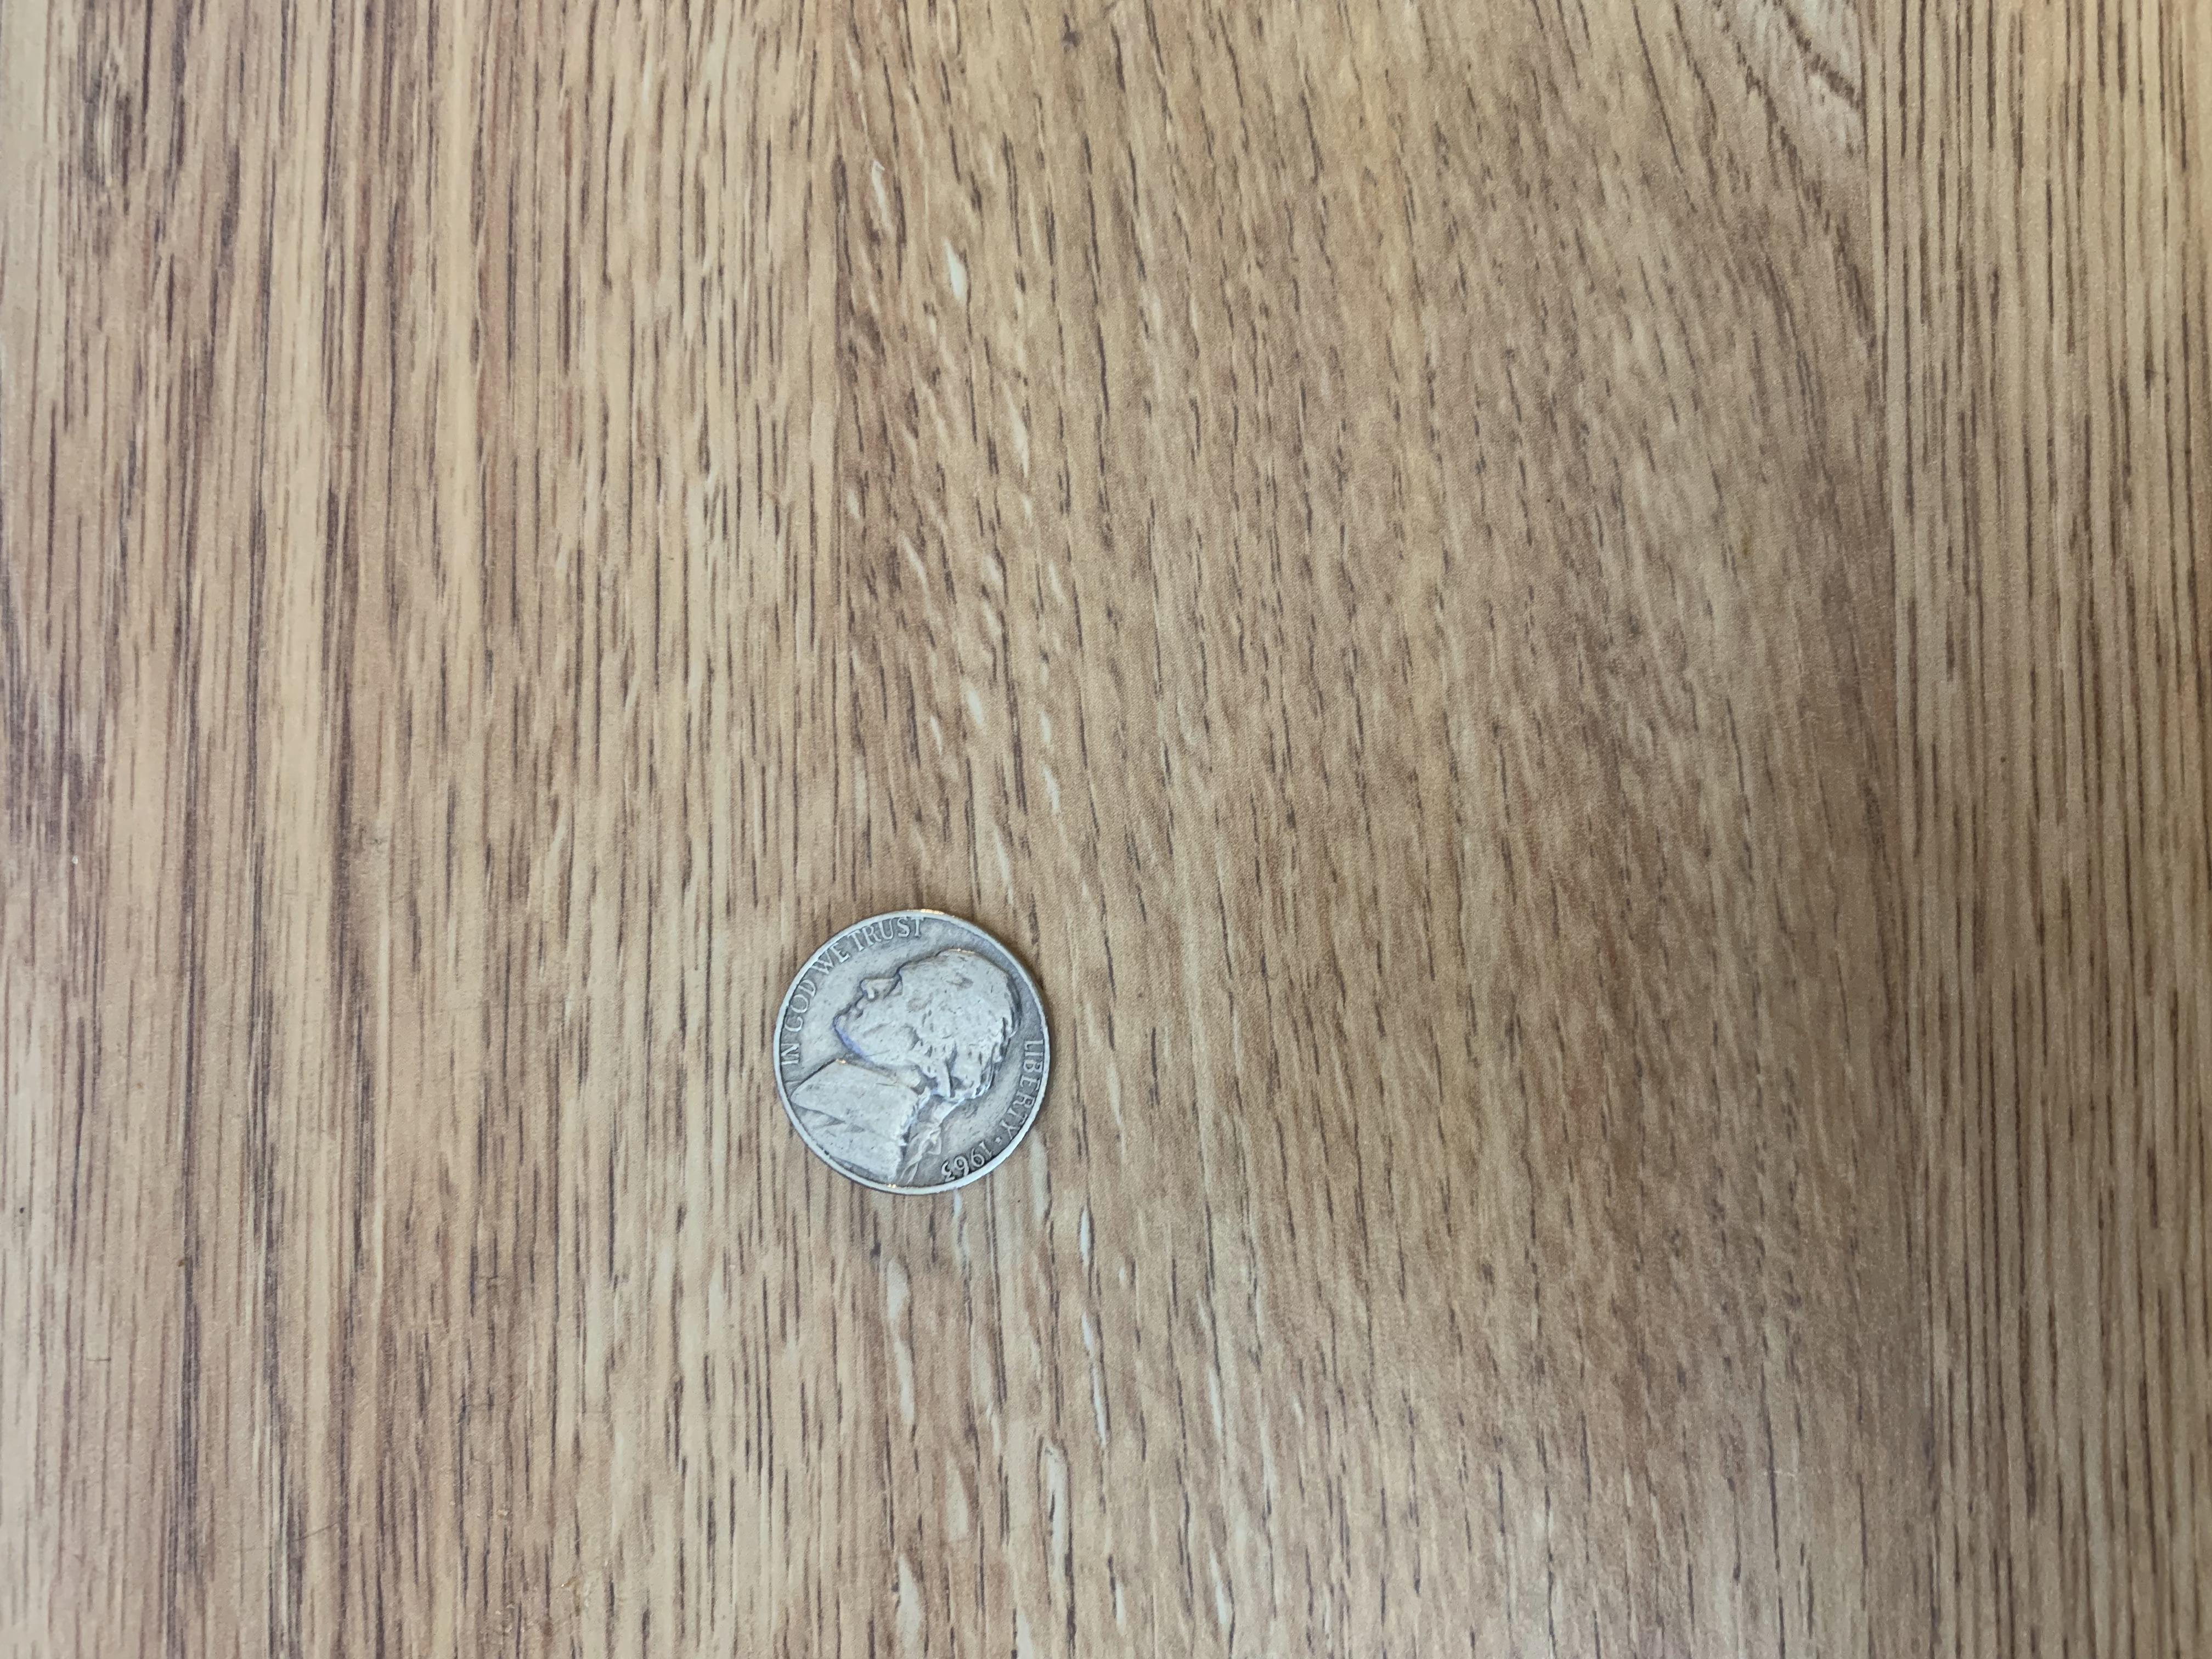Nickel: (761, 896, 1064, 1208)
